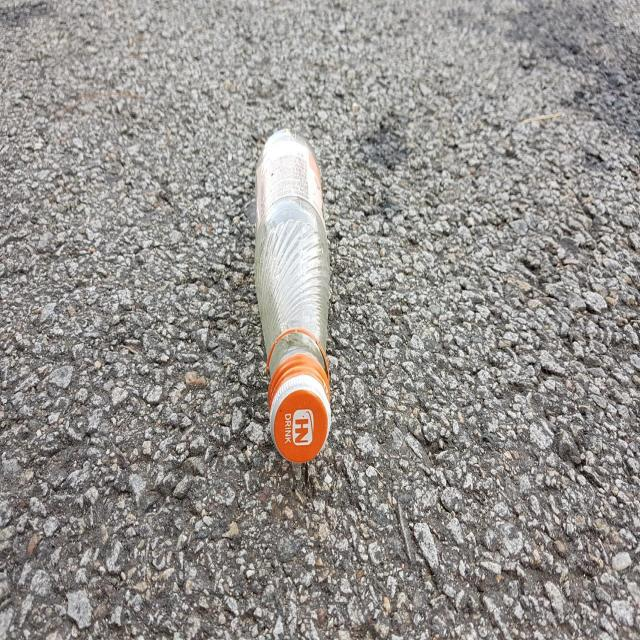glass: (255, 129, 330, 462)
